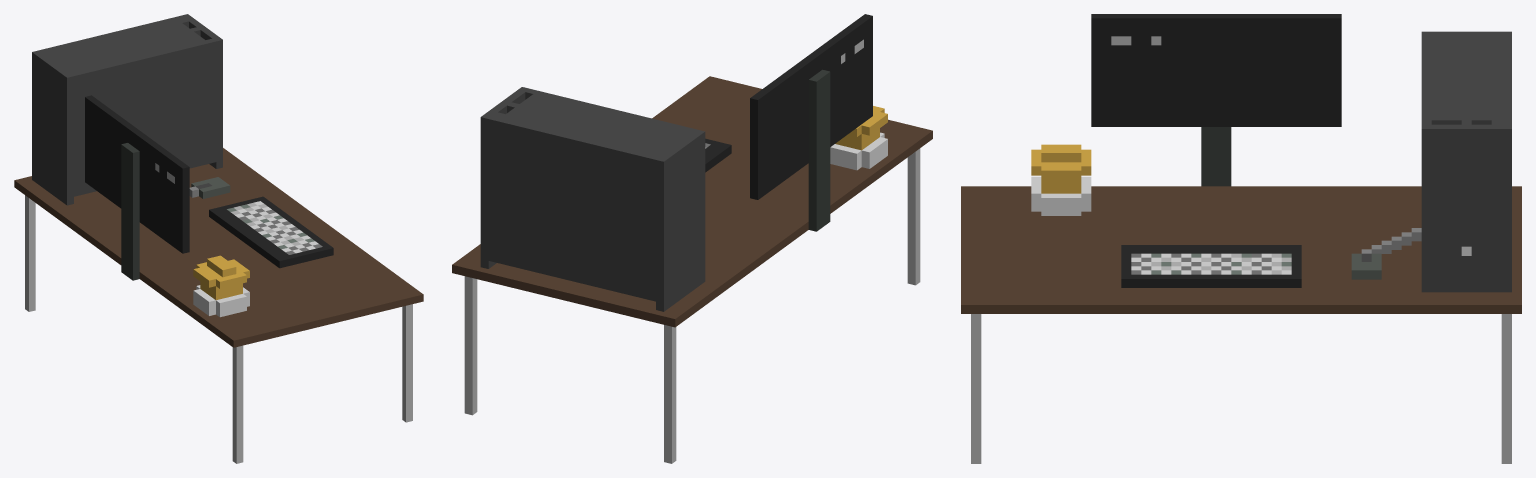
Rendered from mainmain.gltf.
3 views of the same model, side by side, from view 1: azimuth 30°, elevation 25°; view 2: azimuth 150°, elevation 25°; view 3: azimuth 270°, elevation 25° (orthographic). The views are drawn at different scales.
Size of the model in its own units: 2.9 by 3.7 by 5.6.
1 material, 1 textured.
